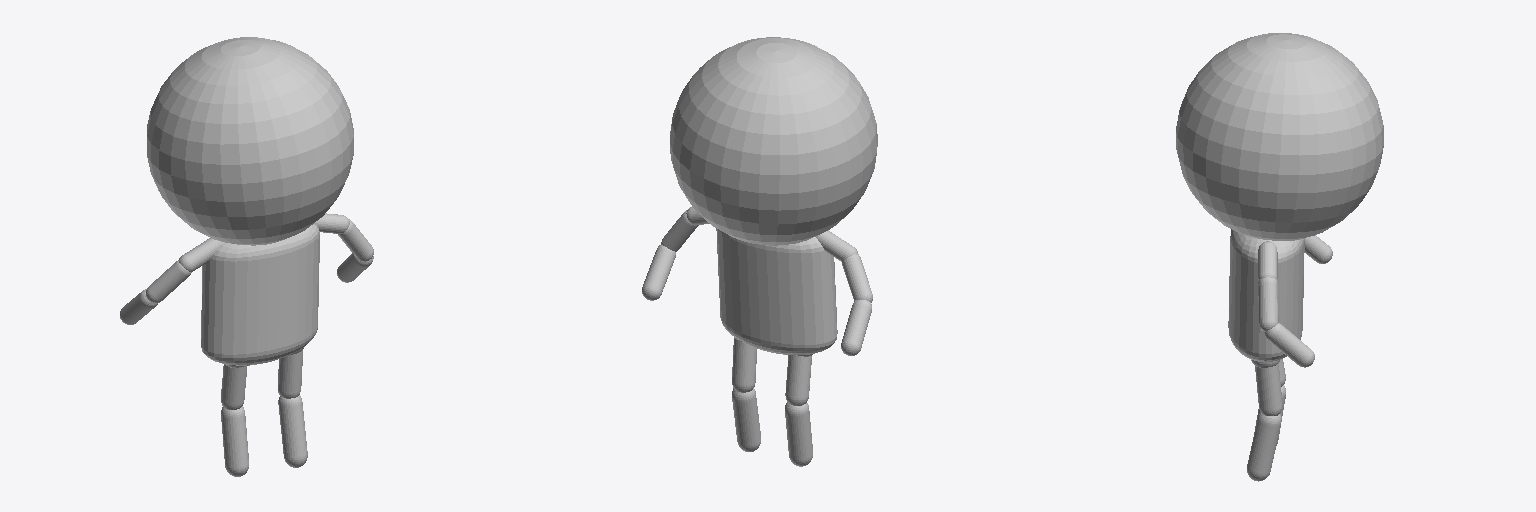
The model's file is Stickman_000090.obj.
3 renders of one model, left to right at view 1: azimuth 30°, elevation 25°; view 2: azimuth 150°, elevation 25°; view 3: azimuth 270°, elevation 25°, orthographic.
Parts seen in each view (by area): view 1: Head_Sphere.001, Body_Roundcube.002, LowerLegLeft_Roundcube.013, LowerLegRight_Roundcube.011, UpperLegLeft_Roundcube.012, UpperLegRight_Roundcube.010, UpperArmRight_Roundcube.015, ShoulderRight_Roundcube.014, UpperArmLeft_Roundcube.018, LowerArmRight_Roundcube.016, LowerArmLeft_Roundcube.019, ShoulderLeft_Roundcube.017; view 2: Head_Sphere.001, Body_Roundcube.002, LowerLegRight_Roundcube.011, LowerLegLeft_Roundcube.013, UpperLegRight_Roundcube.010, UpperLegLeft_Roundcube.012, LowerArmRight_Roundcube.016, LowerArmLeft_Roundcube.019, UpperArmRight_Roundcube.015, UpperArmLeft_Roundcube.018, ShoulderRight_Roundcube.014; view 3: Head_Sphere.001, Body_Roundcube.002, LowerLegLeft_Roundcube.013, UpperLegLeft_Roundcube.012, LowerArmLeft_Roundcube.019, UpperArmLeft_Roundcube.018, ShoulderLeft_Roundcube.017, LowerArmRight_Roundcube.016.
Part boxes in pixels (bbox=[...]): Head_Sphere.001: bbox=[147, 37, 353, 245]; Body_Roundcube.002: bbox=[201, 224, 319, 365]; LowerLegLeft_Roundcube.013: bbox=[278, 395, 307, 467]; LowerLegRight_Roundcube.011: bbox=[221, 406, 248, 476]; UpperLegLeft_Roundcube.012: bbox=[278, 350, 302, 398]; UpperLegRight_Roundcube.010: bbox=[221, 364, 246, 409]; UpperArmRight_Roundcube.015: bbox=[146, 260, 191, 302]; ShoulderRight_Roundcube.014: bbox=[179, 238, 223, 271]; UpperArmLeft_Roundcube.018: bbox=[338, 219, 373, 261]; LowerArmRight_Roundcube.016: bbox=[120, 289, 157, 324]; LowerArmLeft_Roundcube.019: bbox=[337, 253, 373, 282]; ShoulderLeft_Roundcube.017: bbox=[314, 213, 349, 233]; Head_Sphere.001: bbox=[670, 37, 877, 245]; Body_Roundcube.002: bbox=[716, 228, 837, 355]; LowerLegRight_Roundcube.011: bbox=[785, 402, 812, 466]; LowerLegLeft_Roundcube.013: bbox=[732, 388, 760, 451]; UpperLegRight_Roundcube.010: bbox=[785, 355, 811, 405]; UpperLegLeft_Roundcube.012: bbox=[732, 338, 756, 392]; LowerArmRight_Roundcube.016: bbox=[841, 300, 871, 355]; LowerArmLeft_Roundcube.019: bbox=[642, 245, 675, 300]; UpperArmRight_Roundcube.015: bbox=[842, 254, 872, 302]; UpperArmLeft_Roundcube.018: bbox=[661, 210, 698, 251]; ShoulderRight_Roundcube.014: bbox=[816, 230, 857, 261]; Head_Sphere.001: bbox=[1176, 33, 1383, 240]; Body_Roundcube.002: bbox=[1228, 229, 1304, 361]; LowerLegLeft_Roundcube.013: bbox=[1247, 412, 1281, 481]; UpperLegLeft_Roundcube.012: bbox=[1255, 363, 1282, 415]; LowerArmLeft_Roundcube.019: bbox=[1264, 323, 1314, 367]; UpperArmLeft_Roundcube.018: bbox=[1258, 277, 1278, 331]; ShoulderLeft_Roundcube.017: bbox=[1258, 241, 1277, 279]; LowerArmRight_Roundcube.016: bbox=[1305, 235, 1332, 263].
Bounding box in the file's own units: 7.66 × 13.55 × 6.09.